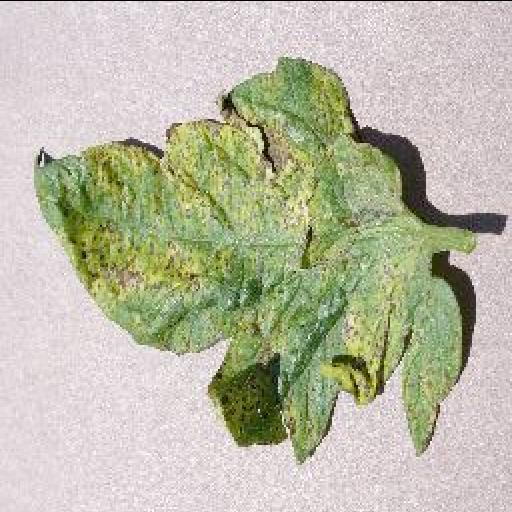disease_tomato: (32, 54, 462, 464)
